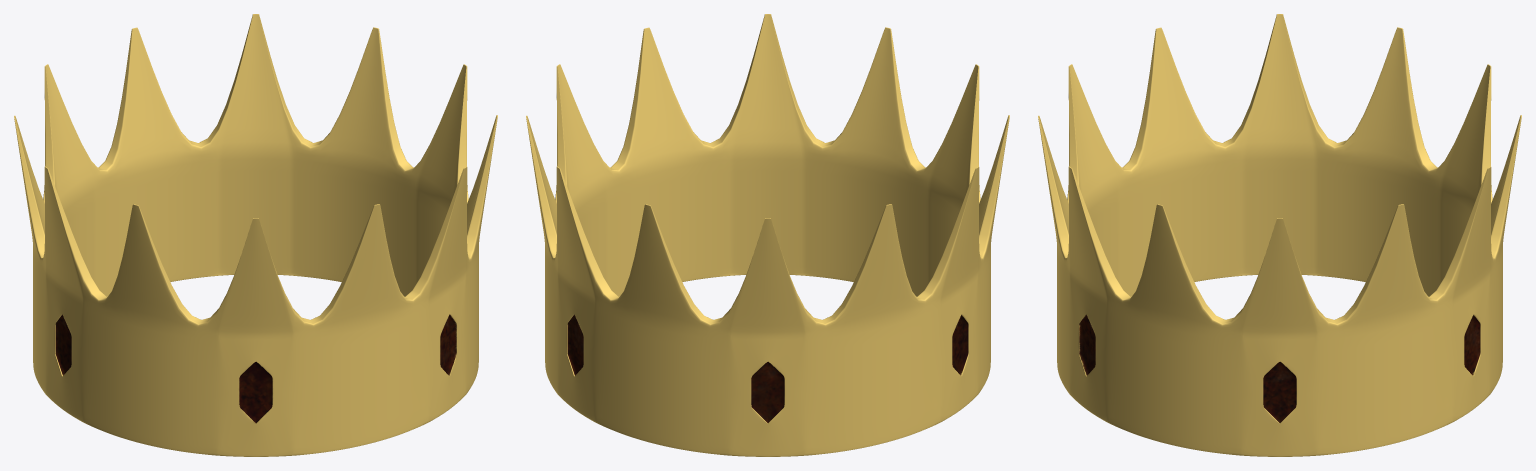
Rendered from EmptyCrown.glb.
3 renders of one model, left to right at view 1: azimuth 30°, elevation 25°; view 2: azimuth 150°, elevation 25°; view 3: azimuth 270°, elevation 25°, orthographic.
Parts seen in each view (by area): view 1: EmptyCrown_geo; view 2: EmptyCrown_geo; view 3: EmptyCrown_geo.
Boxes of the visible parts, x1,y1,x2,y2 form: EmptyCrown_geo: [14, 14, 497, 456]; EmptyCrown_geo: [526, 14, 1009, 456]; EmptyCrown_geo: [1038, 14, 1521, 456].
Size of the model in its own units: 24.15 by 13.55 by 24.09.
Materials: 1 (1 with a texture image).
